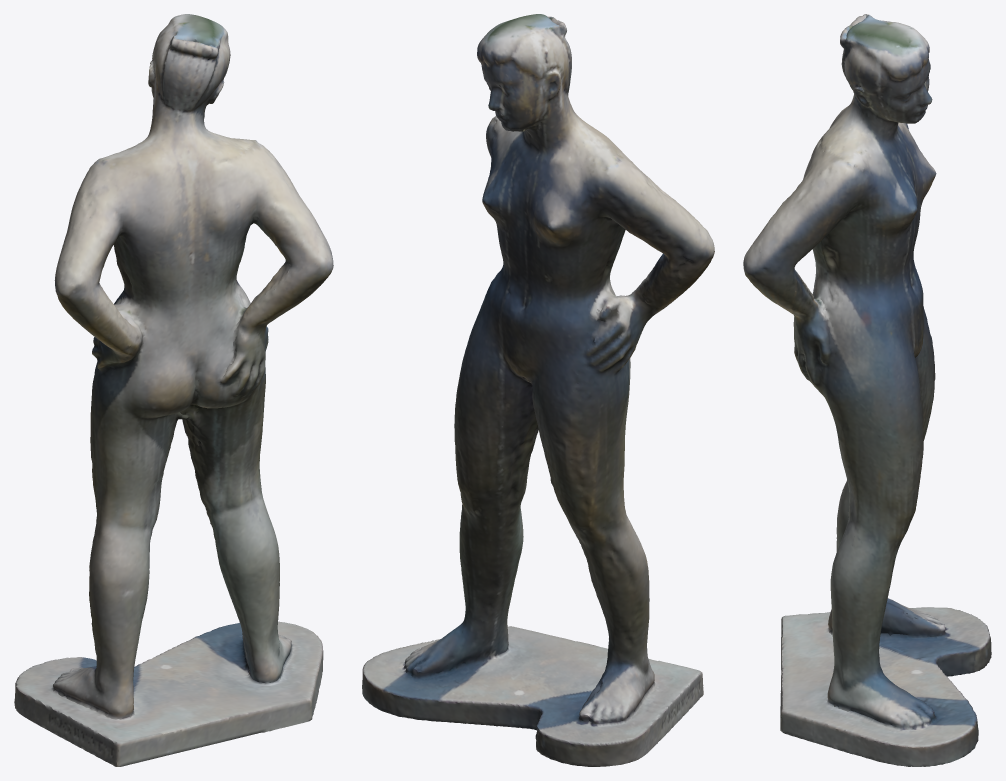
Rendered from preview-6c3b82e1725b.glb.
3 views of the same model, side by side, from view 1: azimuth 30°, elevation 25°; view 2: azimuth 150°, elevation 25°; view 3: azimuth 270°, elevation 25° (orthographic).
Parts seen in each view (by area): view 1: Object_2; view 2: Object_2; view 3: Object_2.
Part boxes in pixels (<box>): Object_2: <box>14,14,333,766</box>; Object_2: <box>362,14,714,766</box>; Object_2: <box>743,14,991,766</box>.
Bounding box in the file's own units: 74.33 × 161 × 53.56.
